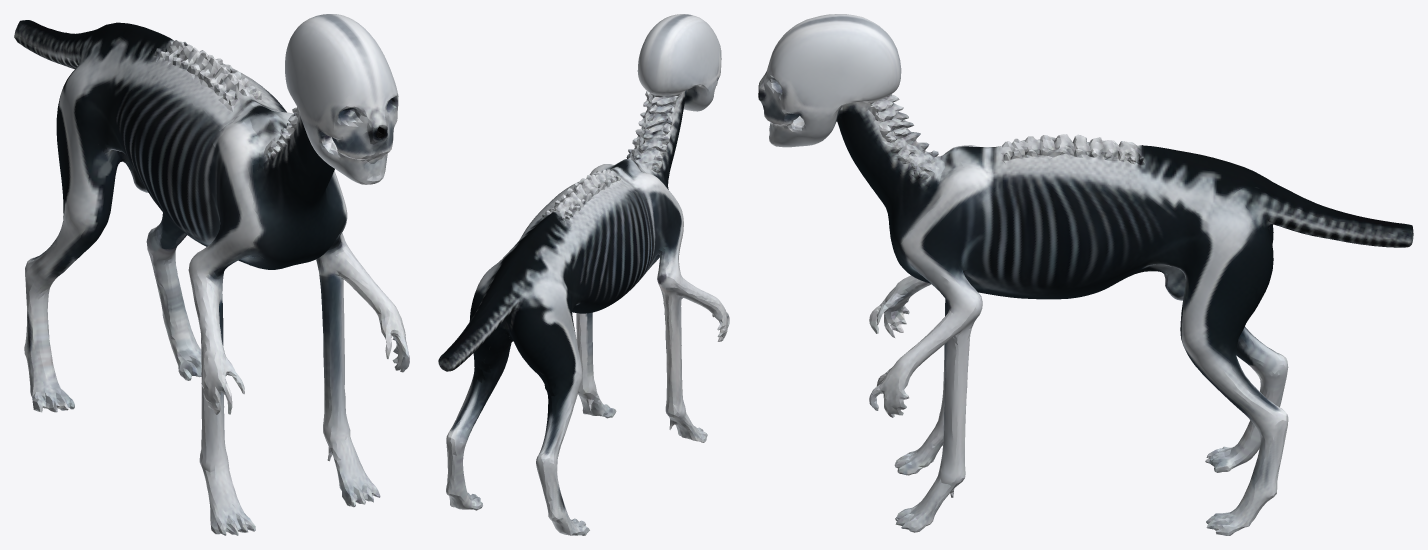
The model's file is cat_xray.glb.
3 views of the same model, side by side, from view 1: azimuth 30°, elevation 25°; view 2: azimuth 150°, elevation 25°; view 3: azimuth 270°, elevation 25° (orthographic). The views are drawn at different scales.
Visible parts, largest first — view 1: model; view 2: model; view 3: model.
Boxes of the visible parts, x1,y1,x2,y2 form: model: [14, 14, 409, 535]; model: [438, 14, 729, 535]; model: [758, 14, 1413, 535].
Size of the model in its own units: 0.614 by 1.53 by 1.9.
1 material, 1 textured.
